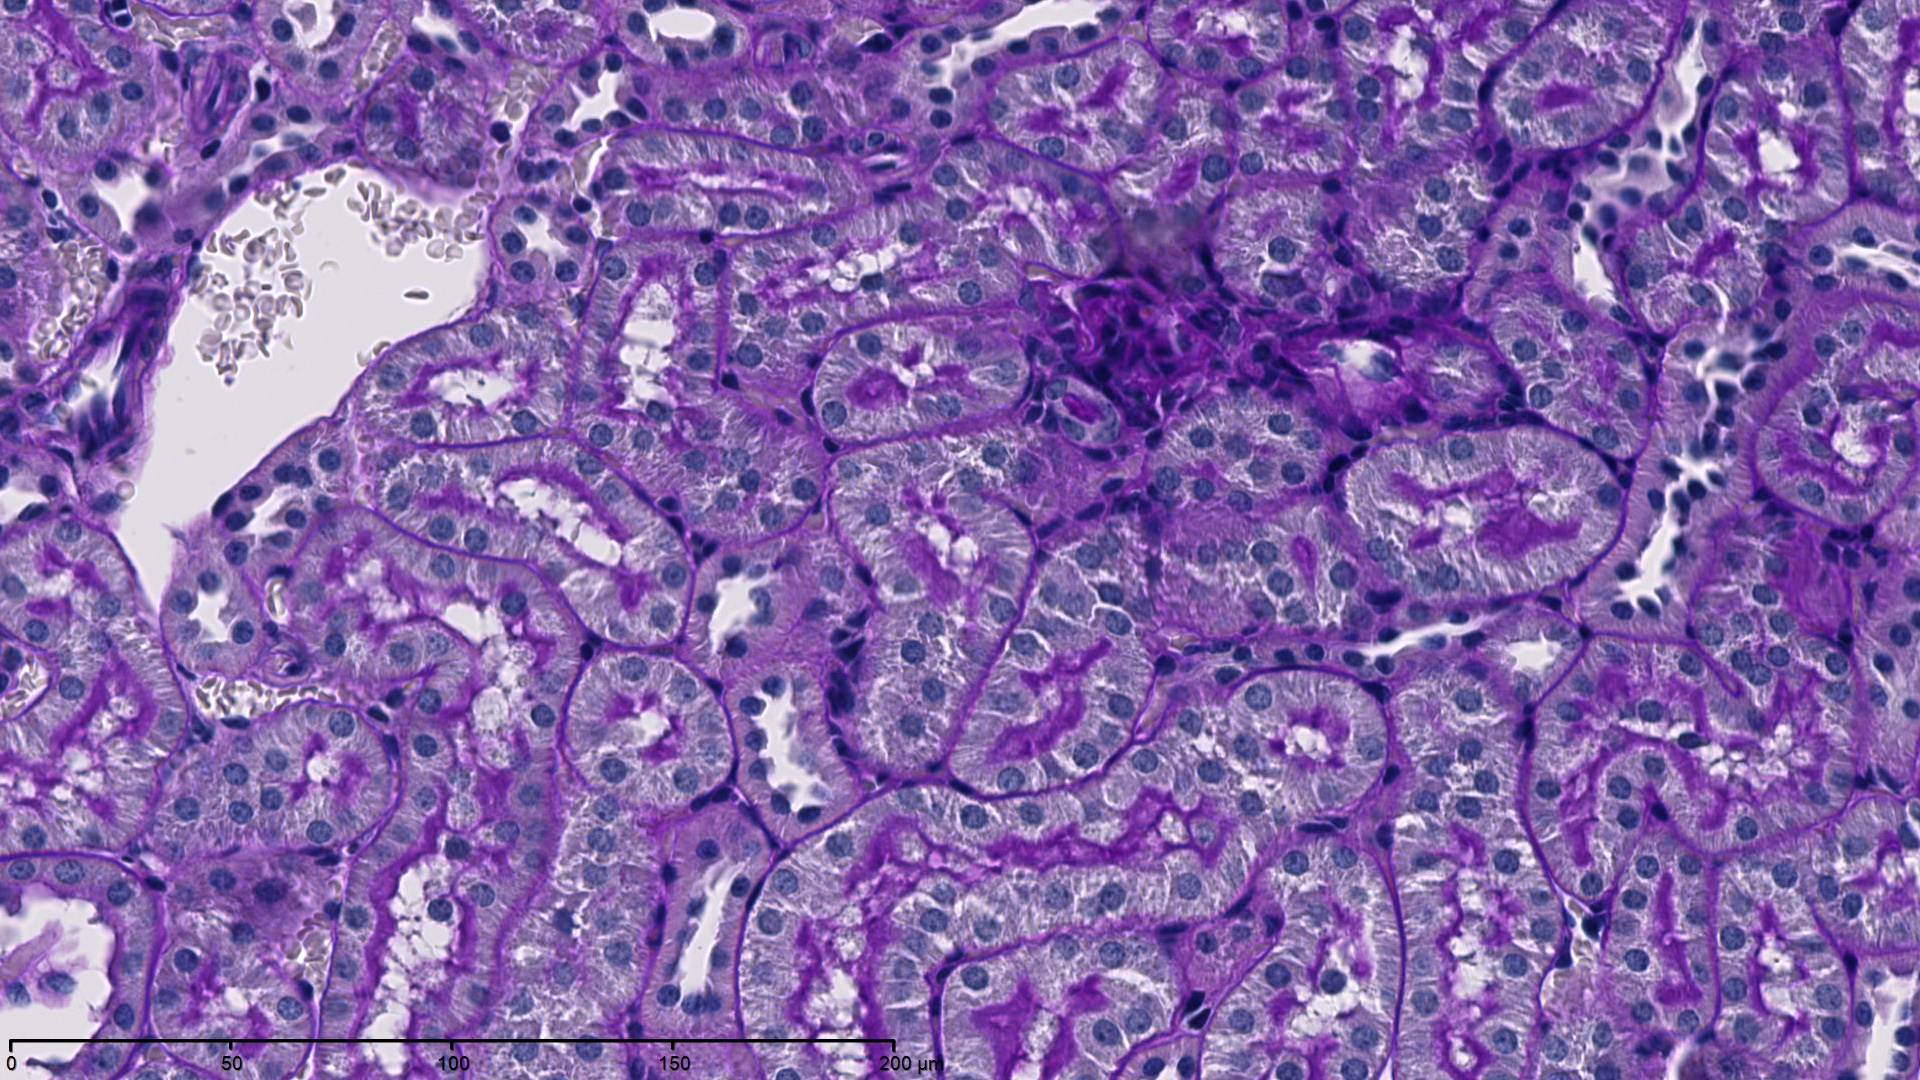Glomeruli: (1030, 258, 1294, 431)
